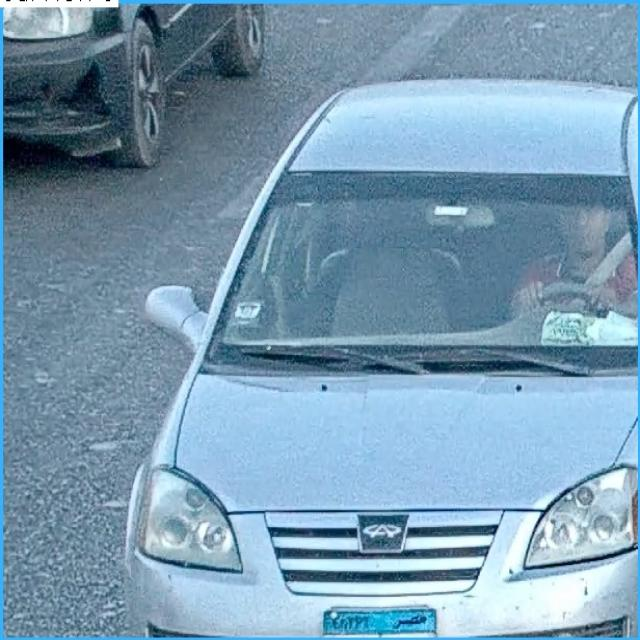windshield: (210, 172, 640, 366)
